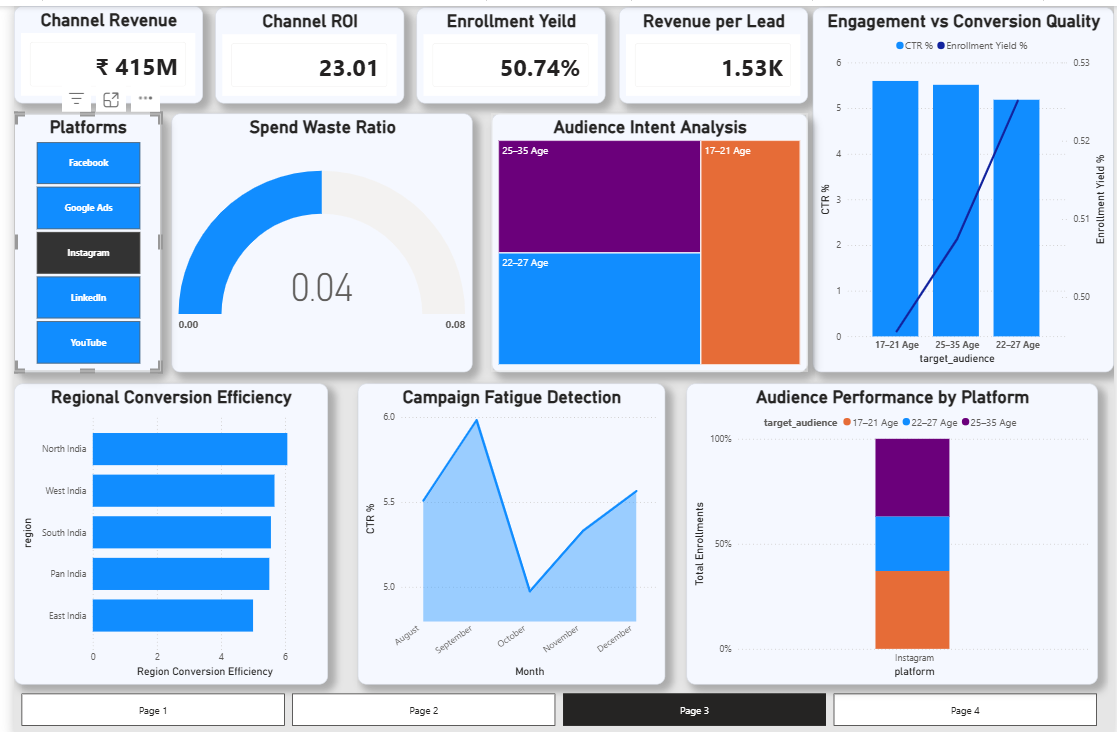

This screenshot's page, from the dashboard's own definition file:
{"tool":"powerbi","page":{"name":"Page 3","canvas":[1500,1000],"ordinal":2},"visuals":[{"type":"cardVisual","title":"Channel Revenue","fields":{"Data":["campaign_performance_clean.Total Revenue"]},"box":[0,0,257.3,132.9],"z":0},{"type":"cardVisual","title":"Channel ROI","fields":{"Data":["campaign_performance_clean.ROI %"]},"box":[274.4,1.7,257.3,131.2],"z":1000},{"type":"cardVisual","title":"Enrollment Yeild","fields":{"Data":["campaign_performance_clean.Enrollment Yield %"]},"box":[548.7,1.7,257.3,131.2],"z":2000},{"type":"cardVisual","title":"Revenue per Lead","fields":{"Data":["Conversion_Stages.Lead Revenue Efficiency"]},"box":[824.8,1.7,257.3,131.2],"z":3000},{"type":"lineClusteredColumnComboChart","title":"Engagement vs Conversion Quality","fields":{"Category":["campaign_performance_clean.target_audience"],"Y":["Conversion_Stages.CTR %"],"Y2":["campaign_performance_clean.Enrollment Yield %"]},"box":[1089,1.7,410.7,497.6],"z":4000},{"type":"treemap","title":"Audience Intent Analysis","fields":{"Group":["campaign_performance_clean.target_audience"],"Values":["Conversion_Stages.Audience Intent Score"]},"box":[651,146.6,431.2,352.8],"z":5000},{"type":"gauge","fields":{"Y":["Conversion_Stages.Spend Waste Ratio"]},"box":[214.7,146.6,410.7,352.8],"z":6000},{"type":"areaChart","title":"Campaign Fatigue Detection","fields":{"Category":["campaign_performance_clean.campaign_date.Variation.Date Hierarchy.Month"],"Y":["Conversion_Stages.CTR %"]},"box":[468.6,514.7,419.2,410.7],"z":7000},{"type":"clusteredBarChart","title":"Regional Conversion Efficiency","fields":{"Category":["campaign_performance_clean.region"],"Y":["Conversion_Stages.Region Conversion Efficiency"]},"box":[0,514.7,427.7,410.7],"z":8000},{"type":"pageNavigator","box":[10.2,937.3,1467.3,44.3],"z":9000},{"type":"slicer","title":"Platforms ","fields":{"Values":["campaign_performance_clean.platform"]},"box":[0,146.6,201.1,352.8],"z":10000},{"type":"hundredPercentStackedColumnChart","title":"Audience Performance by Platform","fields":{"Category":["campaign_performance_clean.platform"],"Y":["campaign_performance_clean.Total Enrollments"],"Series":["campaign_performance_clean.target_audience"]},"box":[916.8,514.7,560.7,410.7],"z":11001}]}

Visuals, with their boxes on the page's 1500x1000 design canvas (x1, y1, x2, y2). These are canvas units, not pixel positions in the 1117x732 screenshot, which may show the page scaled, cropped or inside an application window:
"Channel Revenue" cardVisual: <box>0,0,257,133</box>
"Channel ROI" cardVisual: <box>274,2,532,133</box>
"Enrollment Yeild" cardVisual: <box>549,2,806,133</box>
"Revenue per Lead" cardVisual: <box>825,2,1082,133</box>
"Engagement vs Conversion Quality" lineClusteredColumnComboChart: <box>1089,2,1500,499</box>
"Audience Intent Analysis" treemap: <box>651,147,1082,499</box>
gauge - Conversion_Stages.Spend Waste Ratio: <box>215,147,625,499</box>
"Campaign Fatigue Detection" areaChart: <box>469,515,888,925</box>
"Regional Conversion Efficiency" clusteredBarChart: <box>0,515,428,925</box>
pageNavigator: <box>10,937,1478,982</box>
"Platforms " slicer: <box>0,147,201,499</box>
"Audience Performance by Platform" hundredPercentStackedColumnChart: <box>917,515,1478,925</box>
